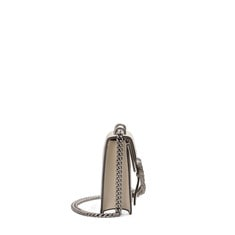Gucci: (82, 118, 150, 219)
